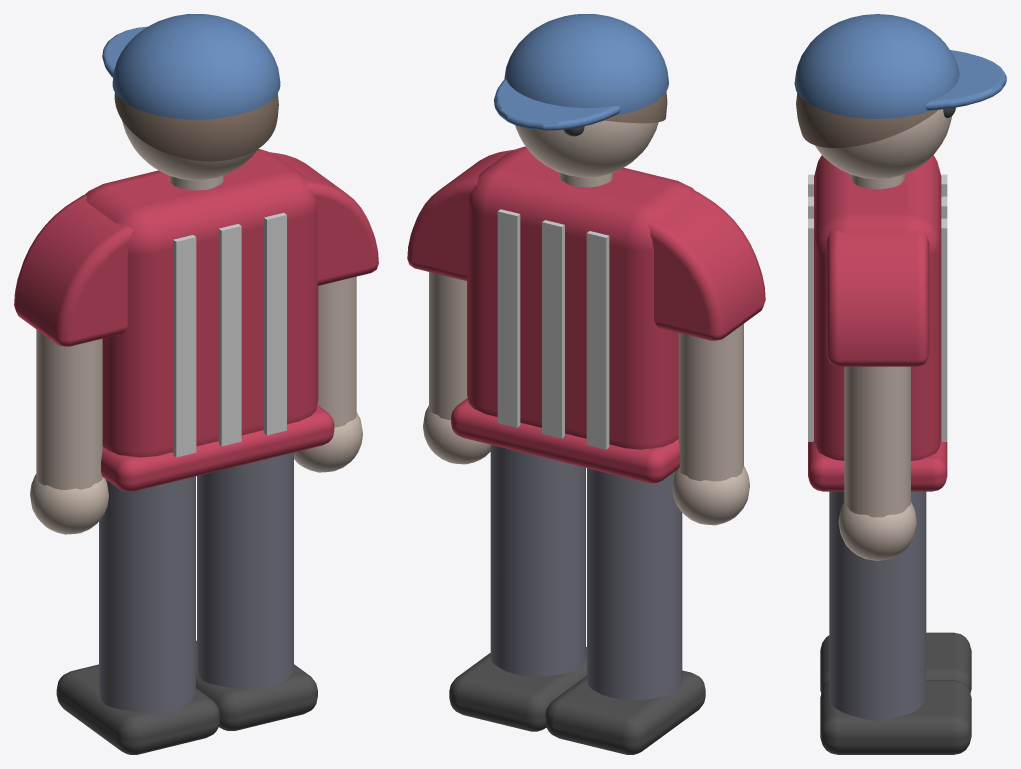
The model's file is person_a.glb.
3 renders of one model, left to right at view 1: azimuth 30°, elevation 25°; view 2: azimuth 150°, elevation 25°; view 3: azimuth 270°, elevation 25°, orthographic.
Parts seen in each view (by area): view 1: geometry_0; view 2: geometry_0; view 3: geometry_0.
Boxes of the visible parts, x1=… form: geometry_0: x1=14, y1=14, x2=378, y2=754; geometry_0: x1=407, y1=14, x2=765, y2=754; geometry_0: x1=794, y1=14, x2=1006, y2=754.
Bounding box in the file's own units: 1.22 × 2.51 × 0.7004.
